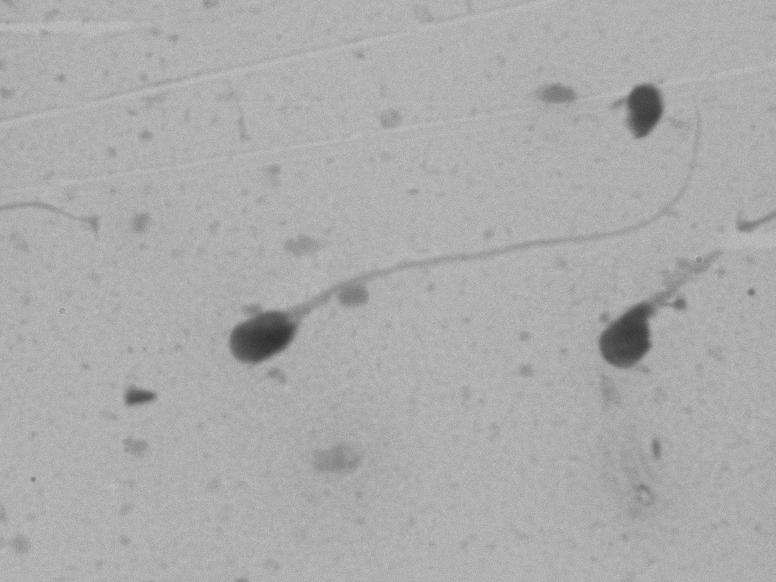Abnormal: (219, 149, 547, 383), (576, 235, 737, 386)
